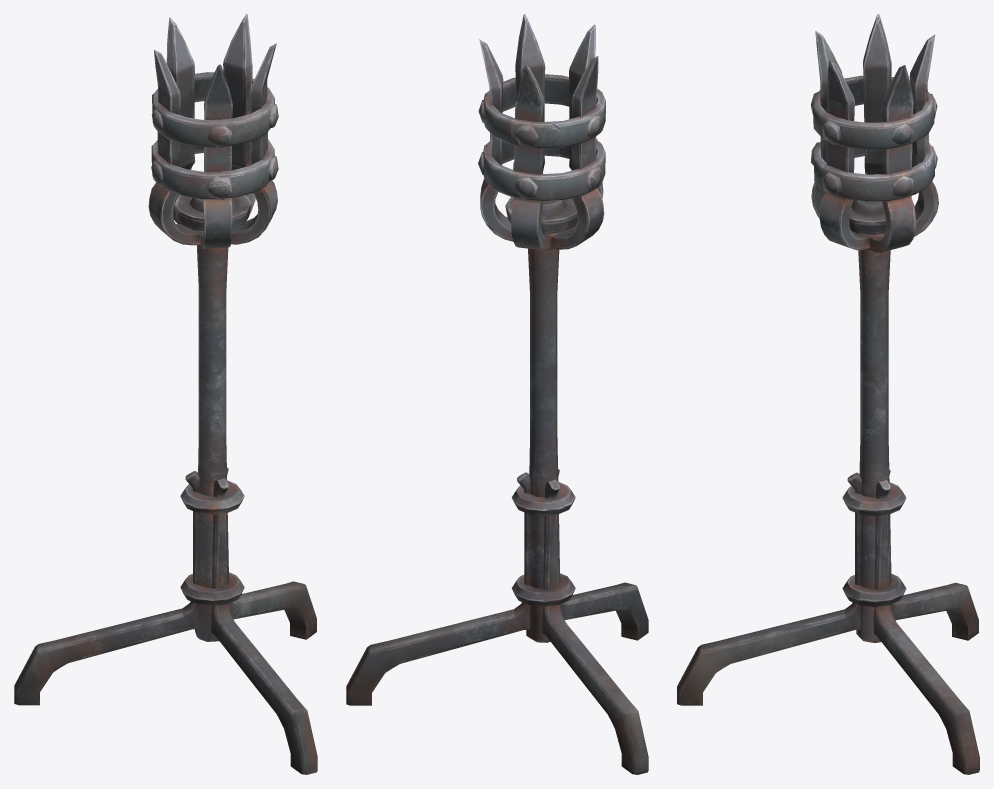
3 views of the same model, side by side, from view 1: azimuth 30°, elevation 25°; view 2: azimuth 150°, elevation 25°; view 3: azimuth 270°, elevation 25° (orthographic).
Parts seen in each view (by area): view 1: SM_Ambient_Floor_Torch_02_LOD0; view 2: SM_Ambient_Floor_Torch_02_LOD0; view 3: SM_Ambient_Floor_Torch_02_LOD0.
Part boxes in pixels (box(x1,y1,x2,y2)): SM_Ambient_Floor_Torch_02_LOD0: box(14, 14, 317, 774); SM_Ambient_Floor_Torch_02_LOD0: box(346, 14, 648, 774); SM_Ambient_Floor_Torch_02_LOD0: box(677, 14, 979, 774).
Bounding box in the file's own units: 0.7289 × 1.53 × 0.635.
Materials: 1 (1 with a texture image).
